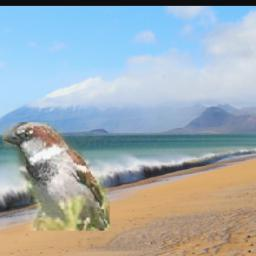Sparrow: (4, 123, 111, 232)
